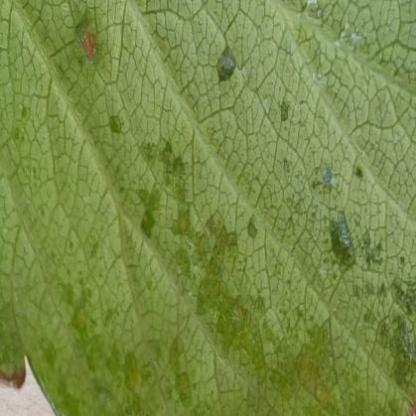Strawberry_Angular_LeafSpot: (0, 17, 415, 416)
